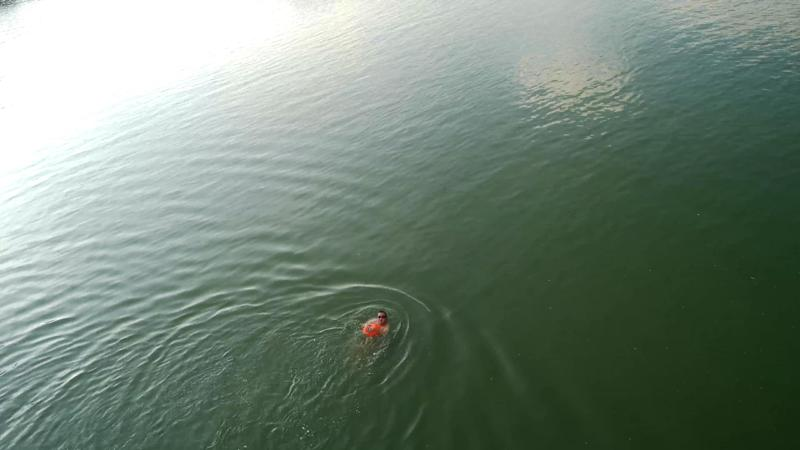swimmers: (361, 309, 390, 336)
